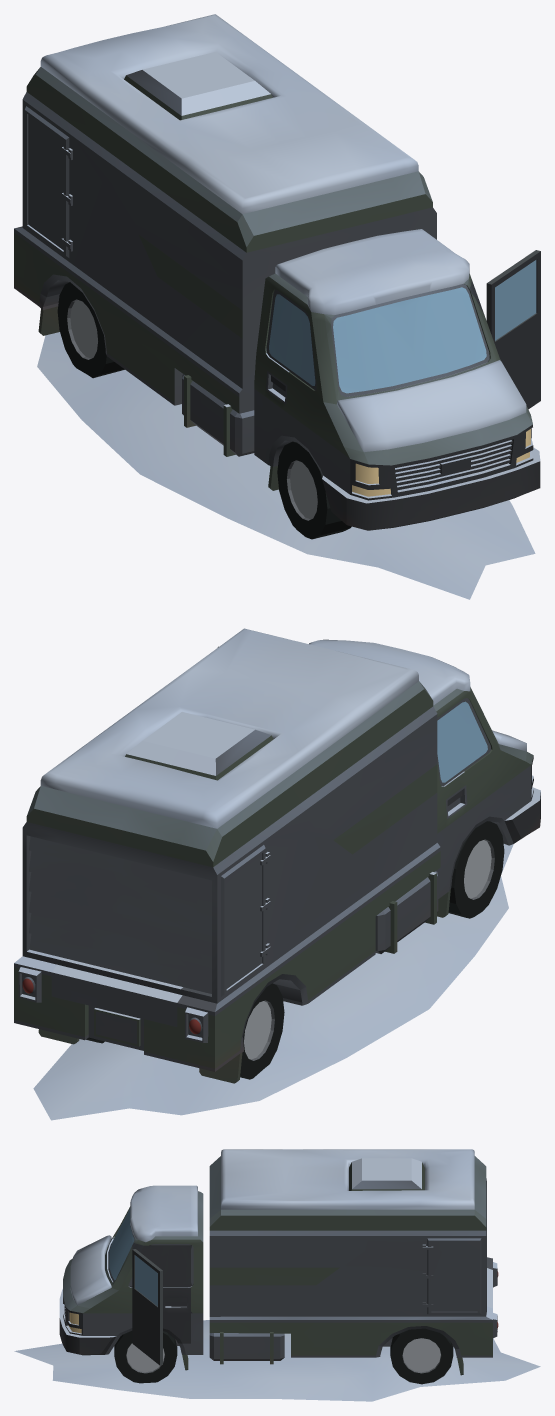
Rendered from military_truck_doors.glb.
3 views of the same model, one above another, from view 1: azimuth 30°, elevation 25°; view 2: azimuth 150°, elevation 25°; view 3: azimuth 270°, elevation 25° (orthographic). The views are drawn at different scales.
Parts seen in each view (by area): view 1: Body, Glass; view 2: Body, Glass; view 3: Body, Glass.
Boxes of the visible parts, box(x1,y1,x2,y2) form: Body: box(14, 14, 540, 599); Glass: box(269, 260, 536, 393); Body: box(14, 628, 540, 1120); Glass: box(437, 701, 487, 782); Body: box(14, 1149, 540, 1401); Glass: box(109, 1208, 157, 1306).
Size of the model in its own units: 3.65 by 3.43 by 8.65.
